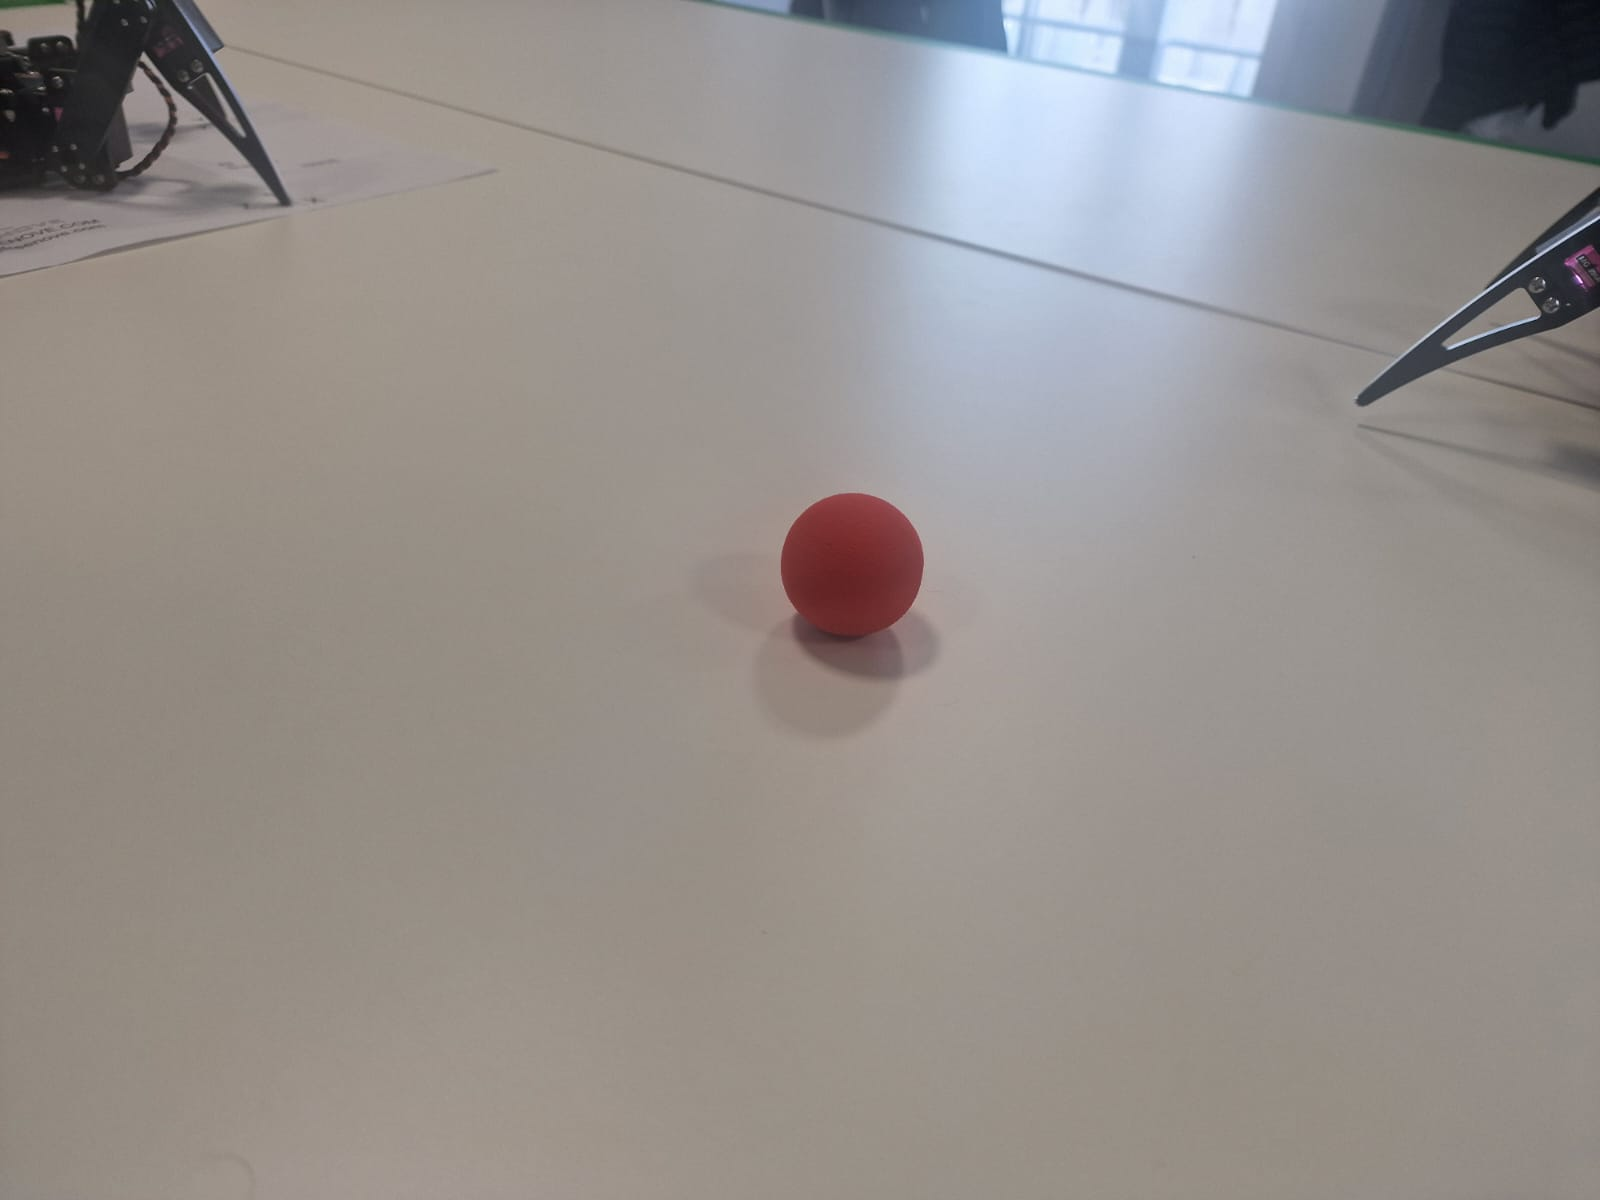bola_cerca: (779, 494, 926, 650)
